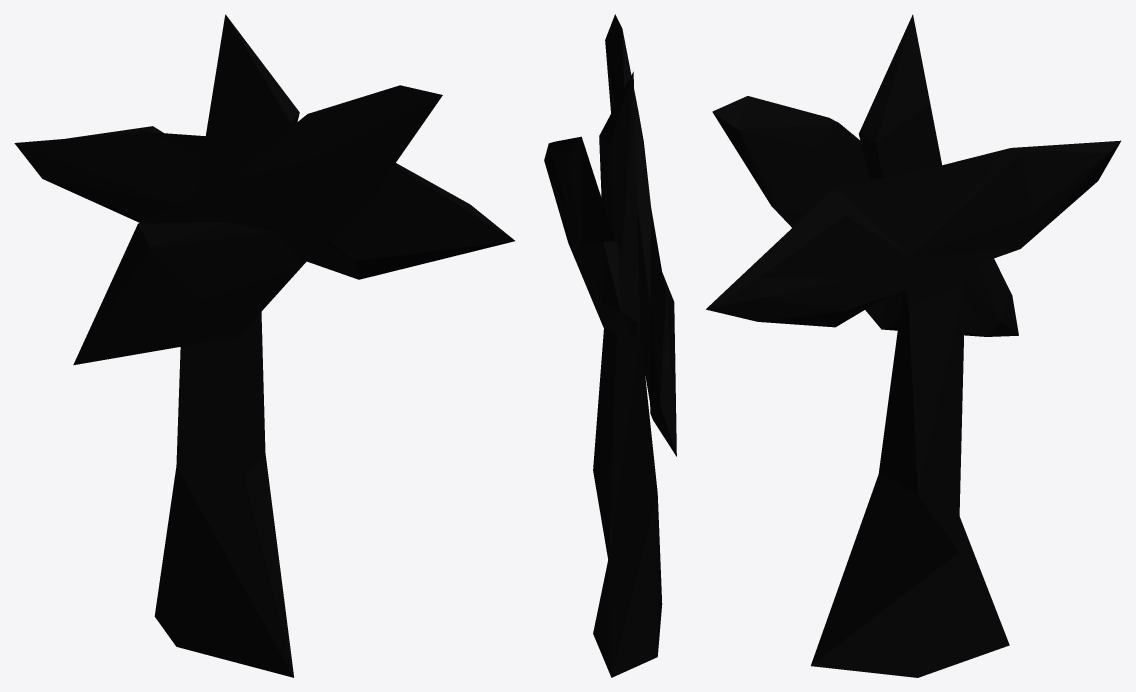
File: desert_plane_sign01.FBX
3 renders of one model, left to right at view 1: azimuth 30°, elevation 25°; view 2: azimuth 150°, elevation 25°; view 3: azimuth 270°, elevation 25°, orthographic. The views are drawn at different scales.
Parts seen in each view (by area): view 1: Box002; view 2: Box002; view 3: Box002.
Boxes of the visible parts, <box> form: Box002: <box>14,14,514,677</box>; Box002: <box>544,14,676,677</box>; Box002: <box>706,14,1120,677</box>.
Bounding box in the file's own units: 9.26 × 18.81 × 11.03.
1 material, 1 textured.
